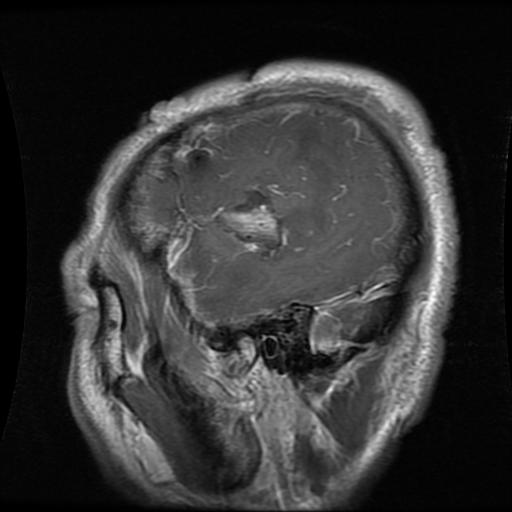Gliomia_tumour: (219, 181, 281, 254)
